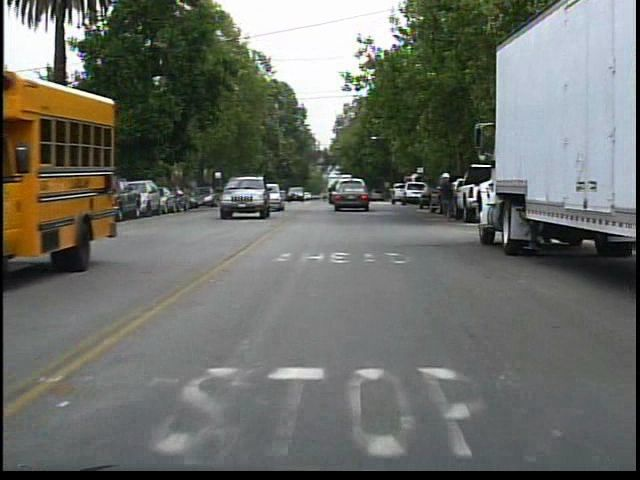person: (436, 169, 462, 223)
